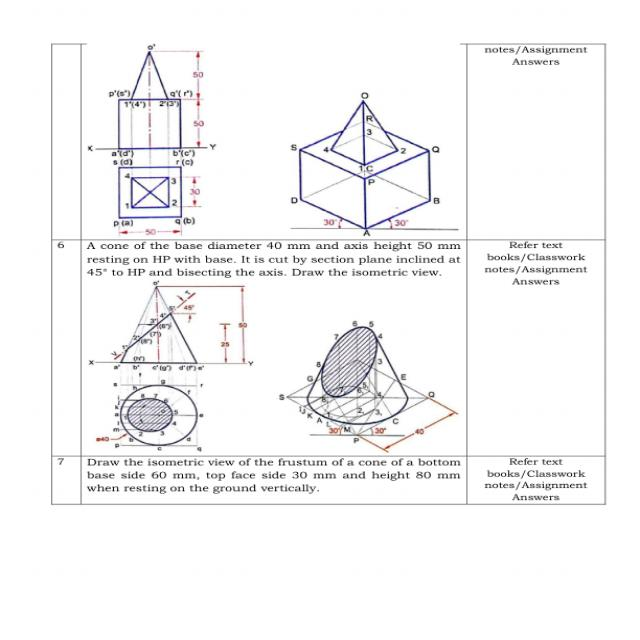Drawings: (266, 72, 464, 238), (85, 277, 265, 454), (273, 312, 465, 455), (84, 42, 226, 235)
